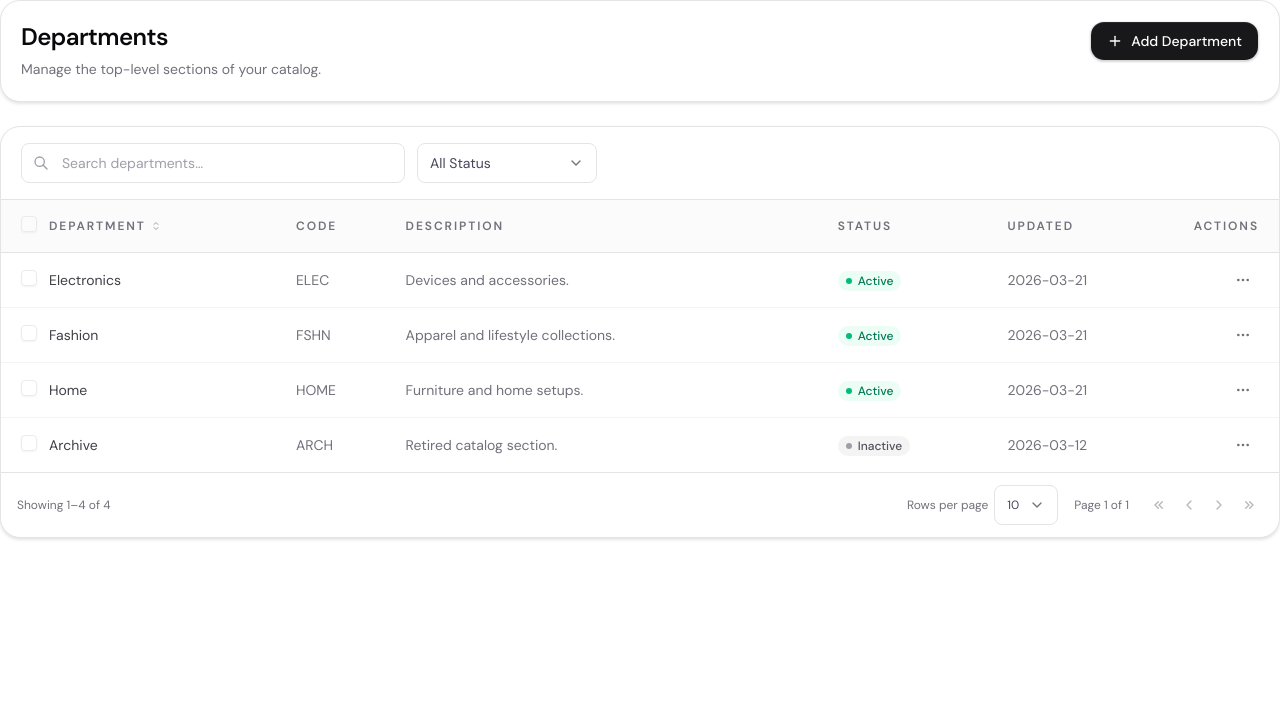
Test case: DepartmentsModule › opens delete dialog when clicking delete
Expected: the text "Electronics" is shown, [41,252,288,308]
Click the button named "department actions" in the row of "Electronics" at (1243, 280), box [1227,264,1259,296]
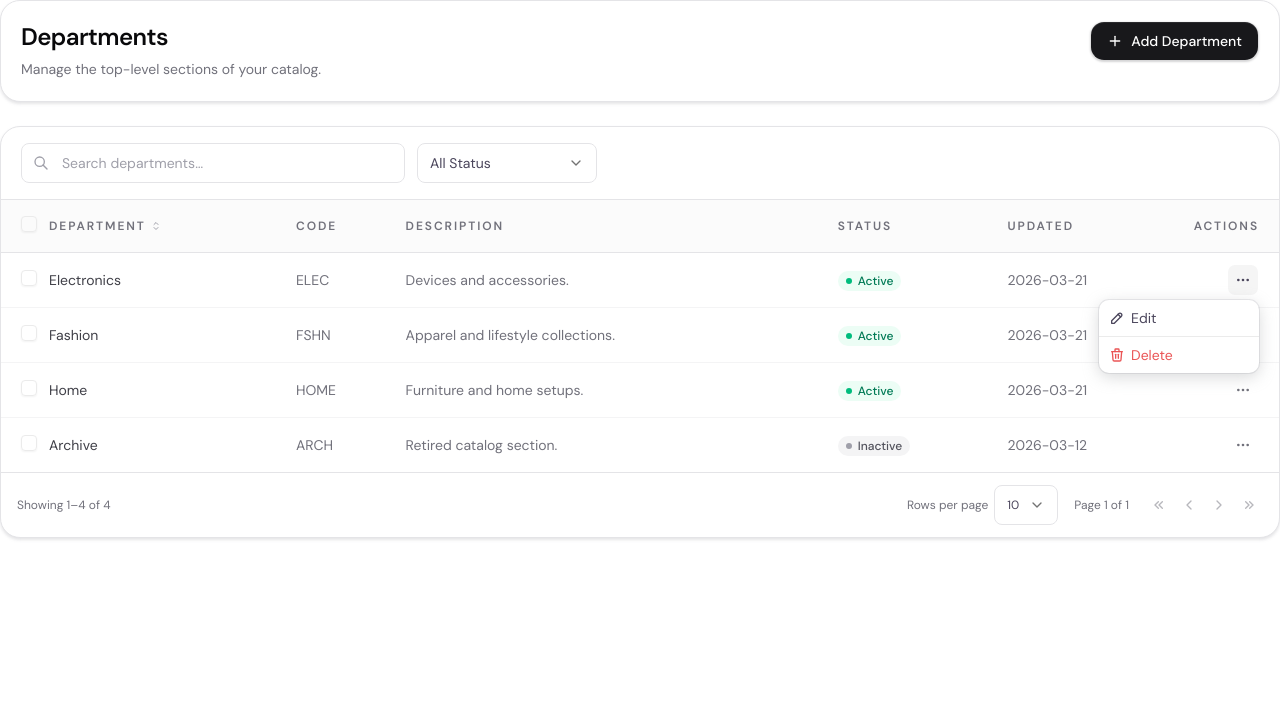
# Click Delete in the dropdown
Click the menu item "Delete" at (1141, 355), box [1109,346,1173,364]
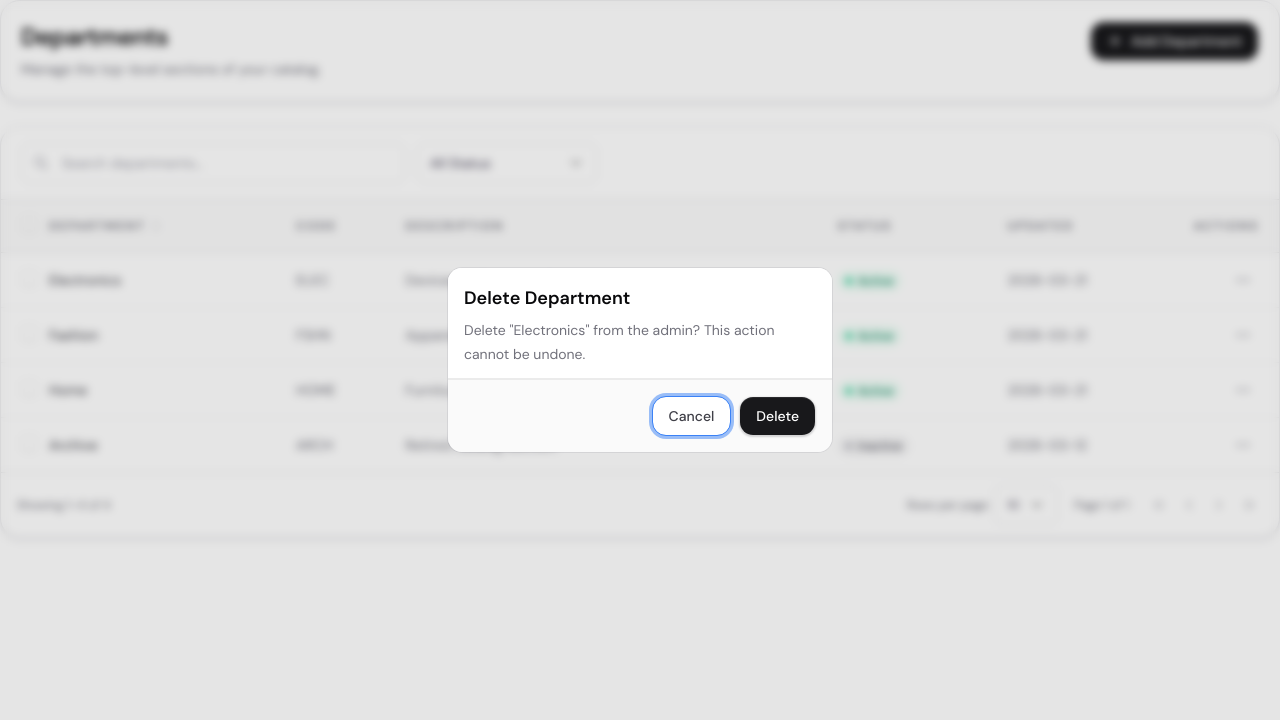
Now the heading "Delete Department" is shown, box [464,284,630,312]
